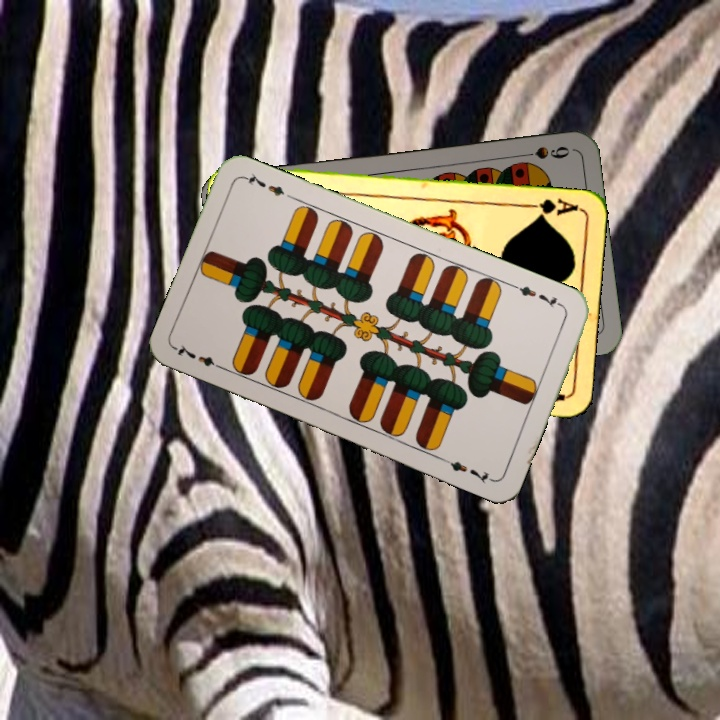E7: (172, 340, 228, 373), (510, 281, 566, 311)
GA: (522, 195, 581, 221)
S9: (513, 142, 572, 162)
